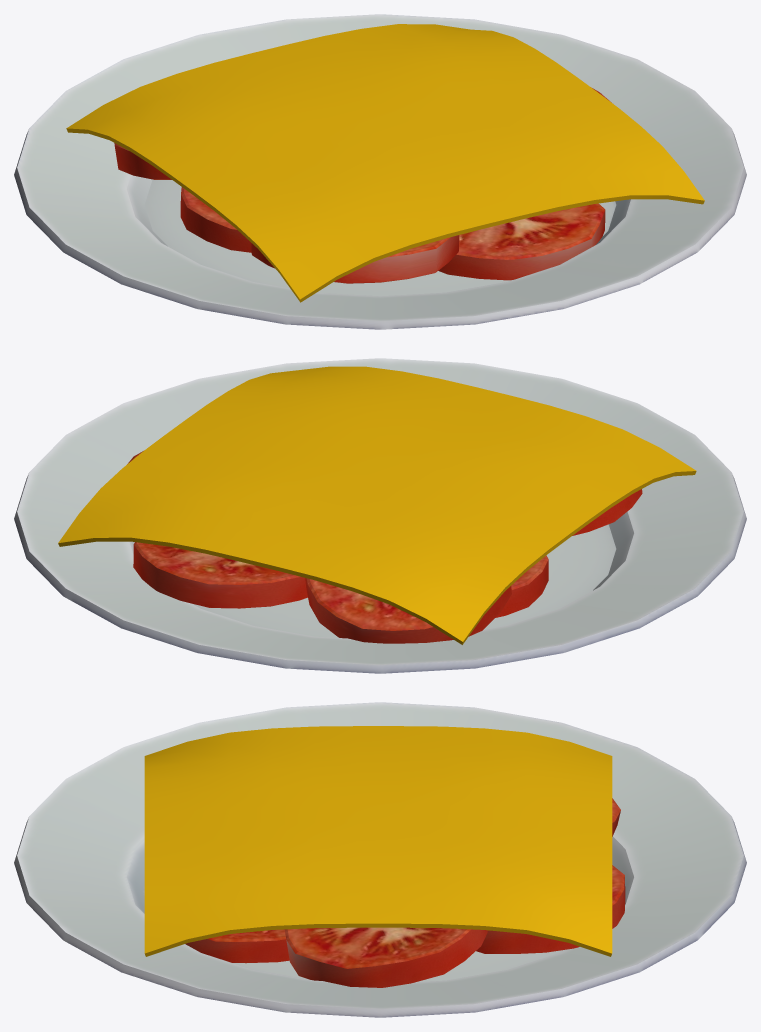
The model's file is cheese-tomato.glb.
3 views of the same model, one above another, from view 1: azimuth 30°, elevation 25°; view 2: azimuth 150°, elevation 25°; view 3: azimuth 270°, elevation 25° (orthographic).
Visible parts, largest first — view 1: cheese, Object_5.005, pCylinder19_9; view 2: cheese, Object_5.005, pCylinder19_9; view 3: cheese, Object_5.005, pCylinder19_9.
Part boxes in pixels (left/top/right/bottom): cheese: left=66, top=24, right=704, bottom=302; Object_5.005: left=14, top=14, right=746, bottom=329; pCylinder19_9: left=114, top=88, right=611, bottom=283; cheese: left=58, top=366, right=696, bottom=644; Object_5.005: left=14, top=358, right=746, bottom=673; pCylinder19_9: left=127, top=451, right=642, bottom=643; cheese: left=144, top=726, right=612, bottom=956; Object_5.005: left=14, top=702, right=746, bottom=1017; pCylinder19_9: left=185, top=798, right=625, bottom=987.
Size of the model in its own units: 1.5 by 0.2072 by 1.5.
Materials: 4 (3 with a texture image).
